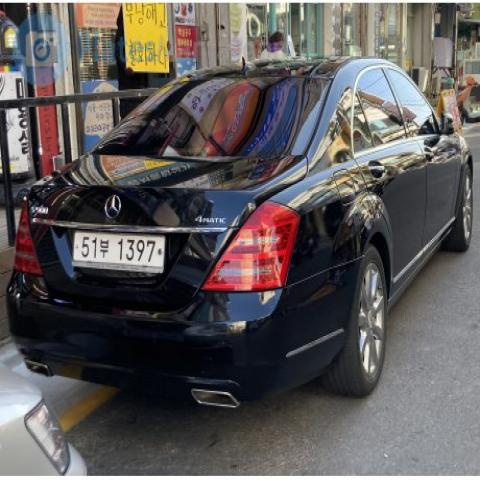LP: (66, 217, 172, 279)
